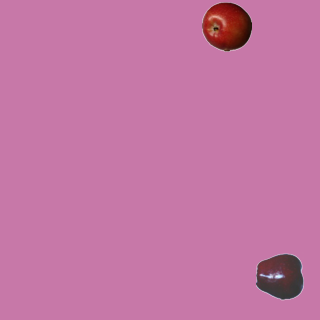Apple Braeburn: (201, 1, 251, 51)
Apple Red Delicious: (255, 251, 305, 301)
